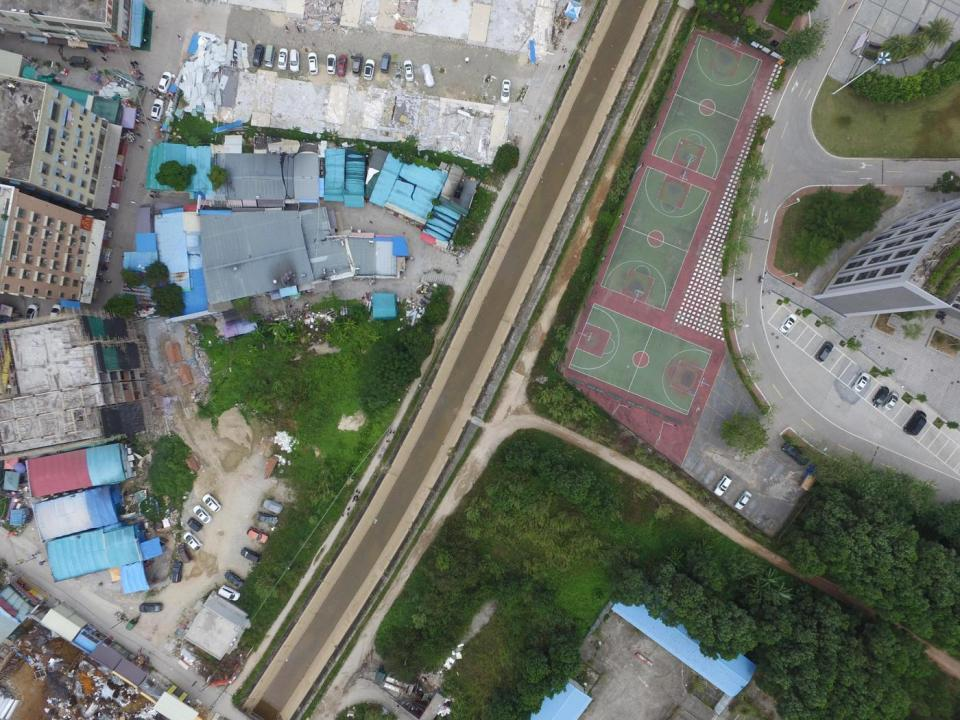car: (781, 442, 808, 466), (903, 410, 928, 435), (778, 312, 798, 335), (713, 475, 733, 497), (202, 492, 222, 513), (218, 584, 241, 601), (192, 504, 212, 523), (183, 532, 202, 552), (734, 490, 753, 510), (852, 371, 870, 392), (816, 341, 834, 361), (872, 385, 890, 405), (883, 390, 900, 411), (246, 527, 268, 543), (224, 570, 244, 587), (421, 63, 435, 87), (150, 99, 165, 121), (24, 304, 38, 327), (262, 498, 282, 513), (255, 512, 278, 525), (158, 72, 172, 93), (288, 49, 300, 73), (307, 52, 319, 75), (170, 560, 182, 583), (49, 304, 62, 325), (500, 79, 511, 103), (139, 602, 163, 613), (68, 56, 90, 67), (364, 58, 375, 80), (403, 60, 414, 82), (252, 43, 262, 67), (337, 55, 348, 76), (278, 48, 288, 71), (187, 517, 202, 532), (352, 54, 362, 76), (326, 54, 336, 74)
truck: (798, 463, 820, 492), (127, 84, 146, 105), (264, 44, 276, 67)
van: (240, 546, 260, 563), (178, 543, 192, 564), (380, 52, 390, 72)
